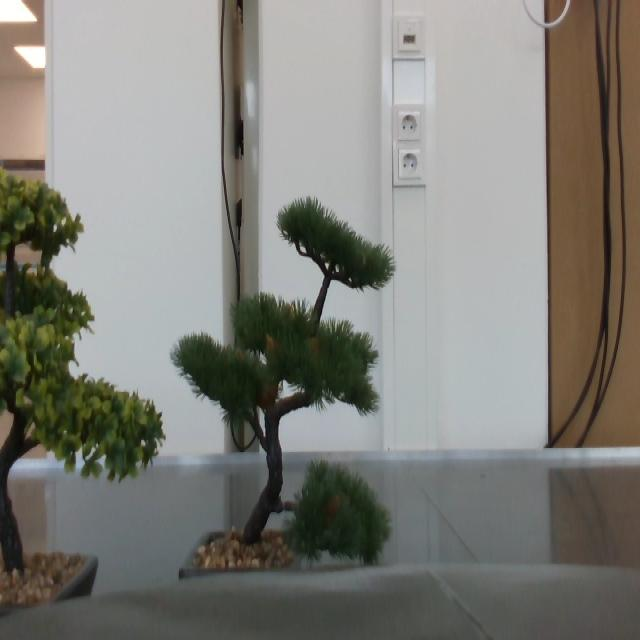potted plant: (170, 195, 396, 563), (1, 165, 166, 577)
